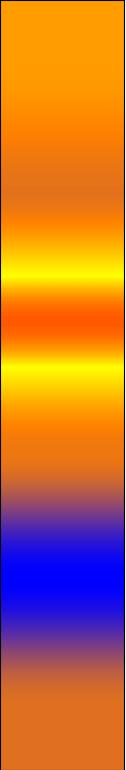Thermal Runaway: (11, 218, 111, 464), (6, 9, 116, 154)
critical: (9, 654, 116, 758), (13, 169, 116, 199), (10, 475, 116, 500)
safe: (13, 516, 112, 635)
